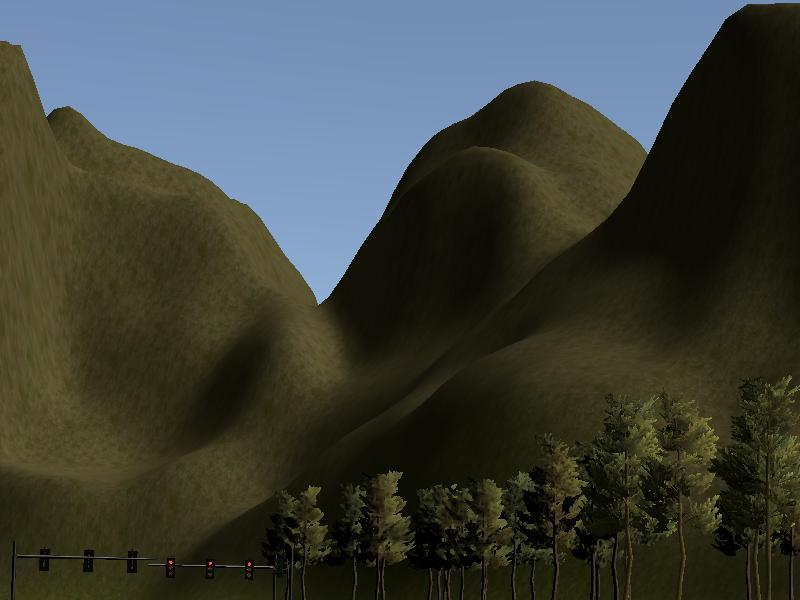Red: (243, 557, 254, 581), (164, 556, 175, 579), (204, 557, 215, 580)
